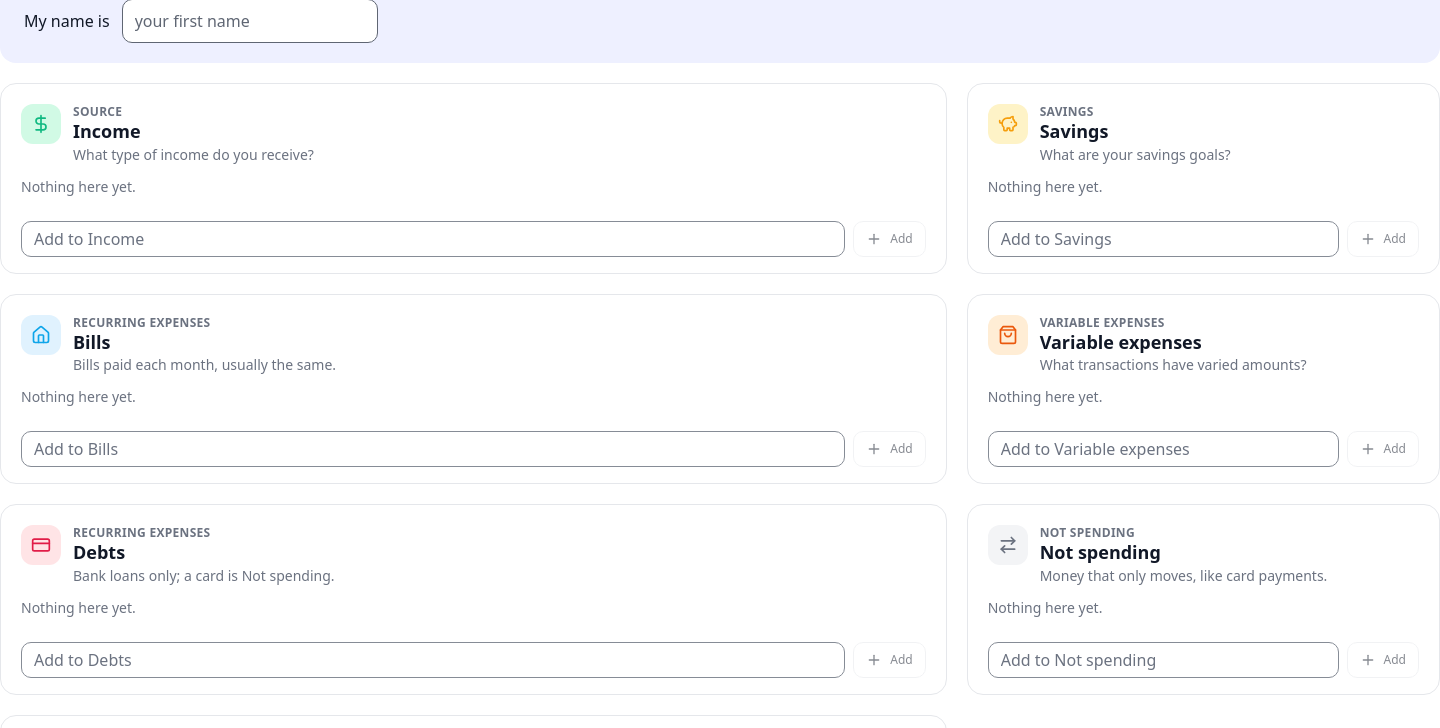
Test: Lists, a name the database refuses › says so on an add in the words a rename already had, and keeps what was typed
Type "Water" into the field named "New Bills category" at [433, 449], box [21,431,845,467]
(page scrolled)
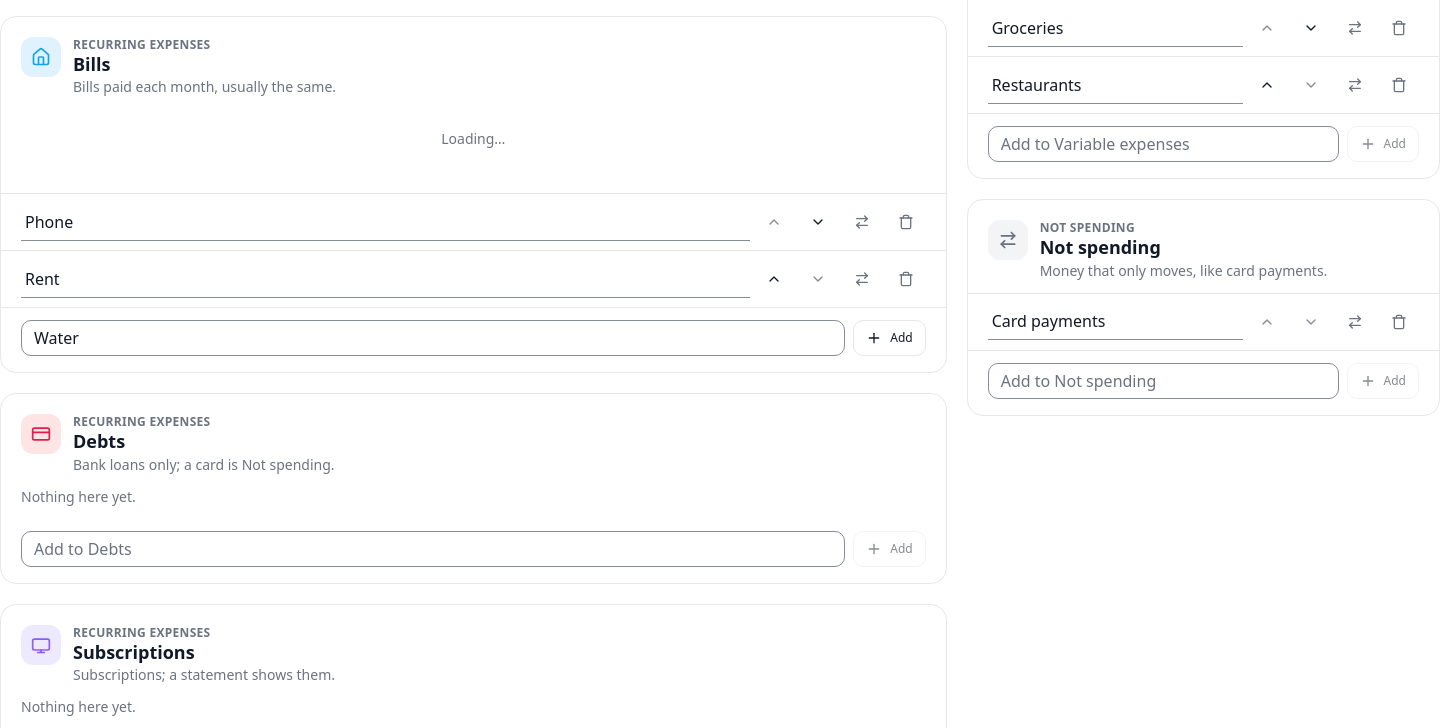
Click the 3rd button "Add" at [889, 338], box [853,320,926,356]
(page scrolled)
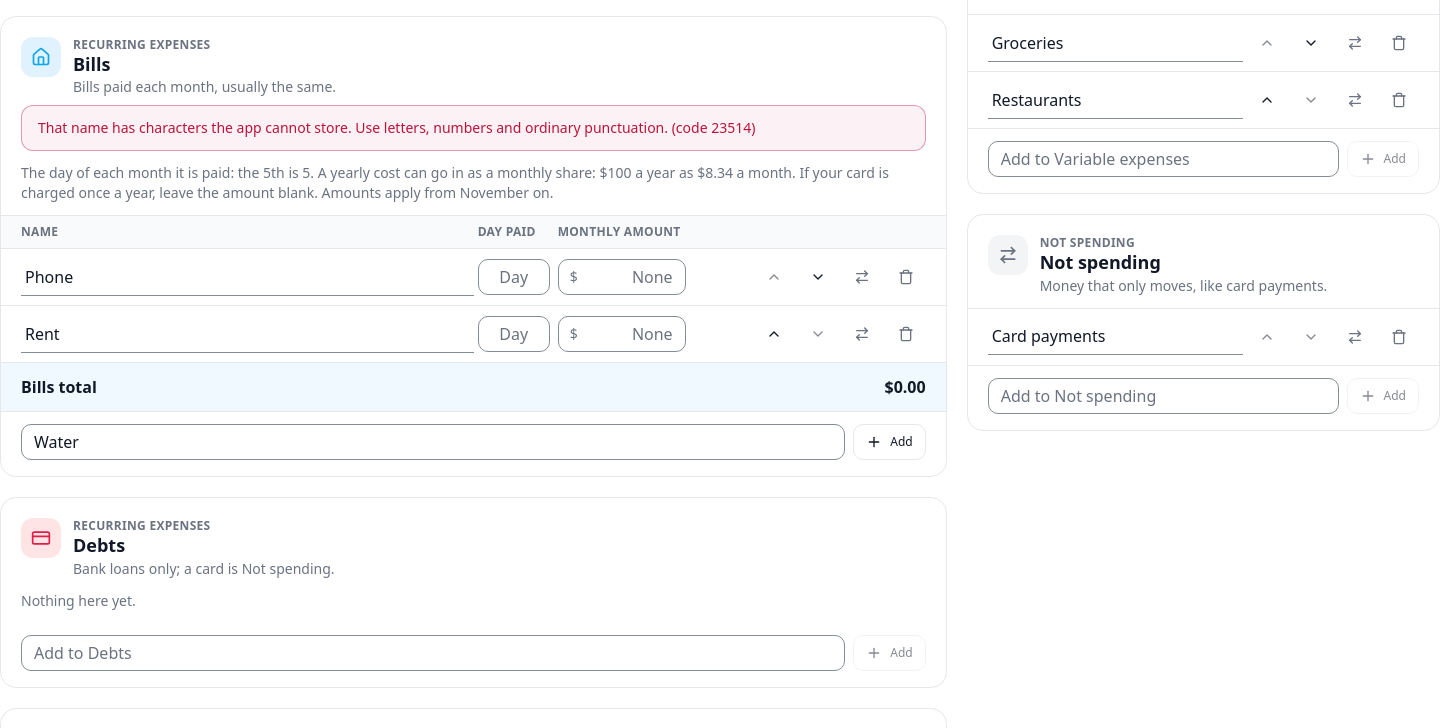
Expected: the message shows "That name has characters the app cannot store. Use letters, numbers and ordinary punctuation. (code 23514)", [38,118,755,137]
